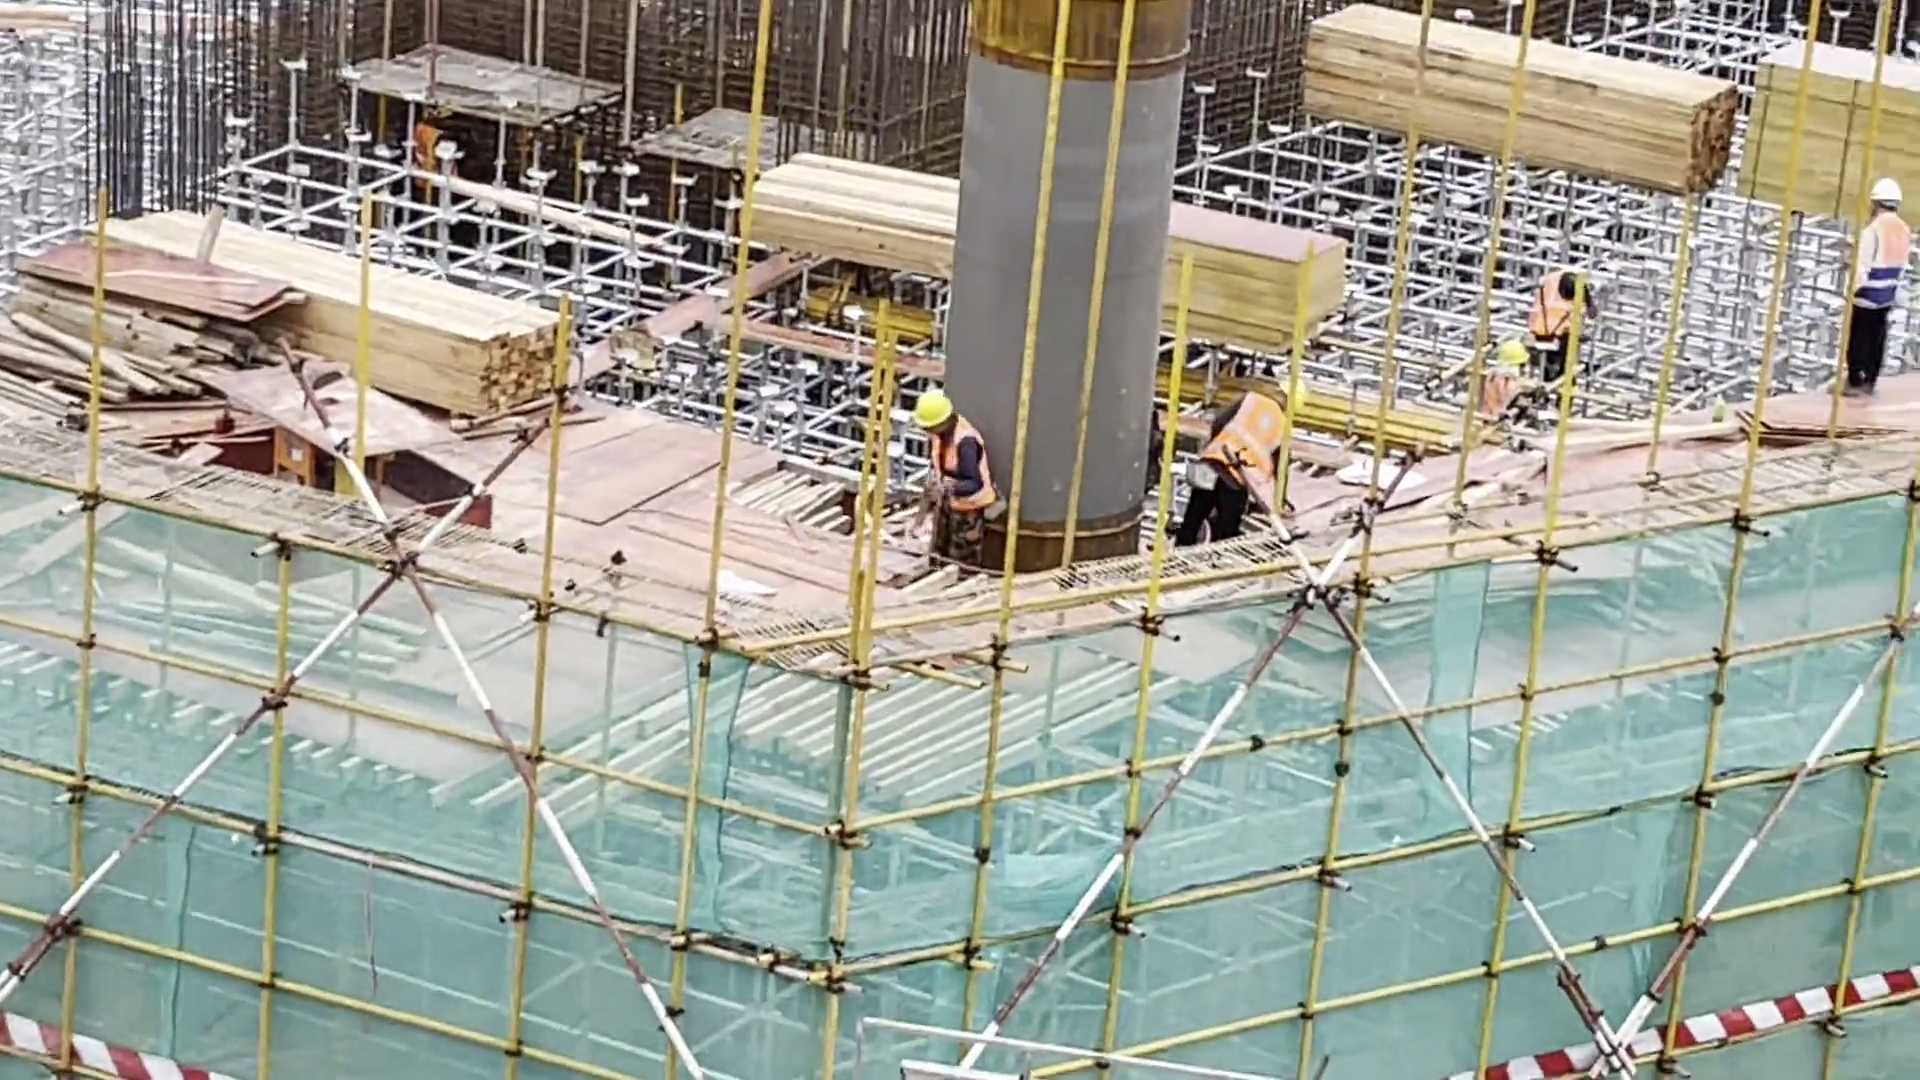helmet: (1262, 367, 1316, 407), (1862, 170, 1908, 215), (905, 398, 963, 433), (1488, 333, 1531, 374)
person: (1188, 378, 1292, 558), (1833, 161, 1910, 403), (889, 398, 1008, 550), (1535, 251, 1597, 383), (1475, 330, 1531, 425)
vest: (1215, 400, 1282, 488), (925, 428, 985, 492), (1869, 217, 1898, 294), (1543, 278, 1574, 328), (1488, 375, 1521, 420)
wood: (1280, 1, 1734, 193), (104, 208, 567, 396), (1, 282, 251, 449)
